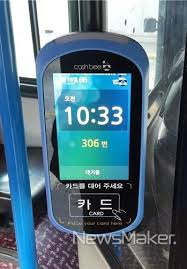terminal: (33, 28, 154, 235)
